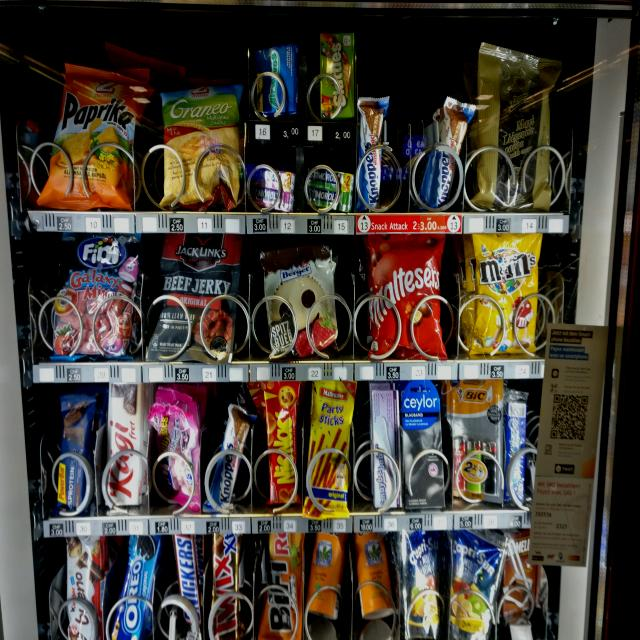airwaves_menthoneucalyptus_riegel_14_1_50173167: (254, 44, 299, 115)
berger_spitzbueb____: (262, 249, 340, 356)
bifi_roll__50__4251097402635: (261, 531, 304, 640)
bueno___43__4008400320328: (63, 529, 103, 640)
c-swiss_dosenabisicetea__33__9120025930135: (352, 528, 399, 619), (307, 523, 348, 619)
caprisun_multivitamin__20__4000177605004: (450, 526, 498, 640), (401, 528, 447, 640)
comella_schokodrink__33__7613100037253: (501, 532, 538, 626)
fini_galaxymix_packung_100_1_8410525150364: (56, 235, 132, 358)
fini_jellykisses_packung_80_1_8410525116704: (150, 390, 202, 500)
jacklinks_beefjerkyorginal__25__4047751730219: (152, 232, 240, 360)
jlbrichard_gauffrechoko__90__5410495002079: (478, 38, 557, 212)
kagi___50__7610046000259: (104, 383, 144, 509)
knoppers_riegel____4035800488808: (425, 94, 467, 215), (208, 401, 251, 509), (356, 96, 389, 210)
lorenz_nicnacs__40__4018077798818: (260, 376, 302, 511)
malburner_partysticks__40__7610200279682: (306, 377, 352, 519)
maltesers___100__5000159023061: (368, 230, 450, 359)
mnms_gelb__45__40111445: (469, 228, 539, 357)
oreo___66__84100733: (112, 534, 158, 640)
powerbar_proteinplusschoko__55__4029679520028: (52, 392, 95, 518)
skittles_sour_riegel_51_1_: (317, 31, 358, 118)
snickers___50__5000159461122: (168, 532, 205, 639)
stimorol_spearmint_riegel_14_1_: (304, 166, 354, 212)
stimorol_wildcherry_riegel_14_1_57060330: (247, 166, 293, 209)
twix___50__5000159459228: (211, 531, 243, 640)
zweifel_graneochilli__100__7610095184009: (161, 89, 242, 213)
zweifel_paprika__90__7610095013002: (45, 69, 142, 206)
